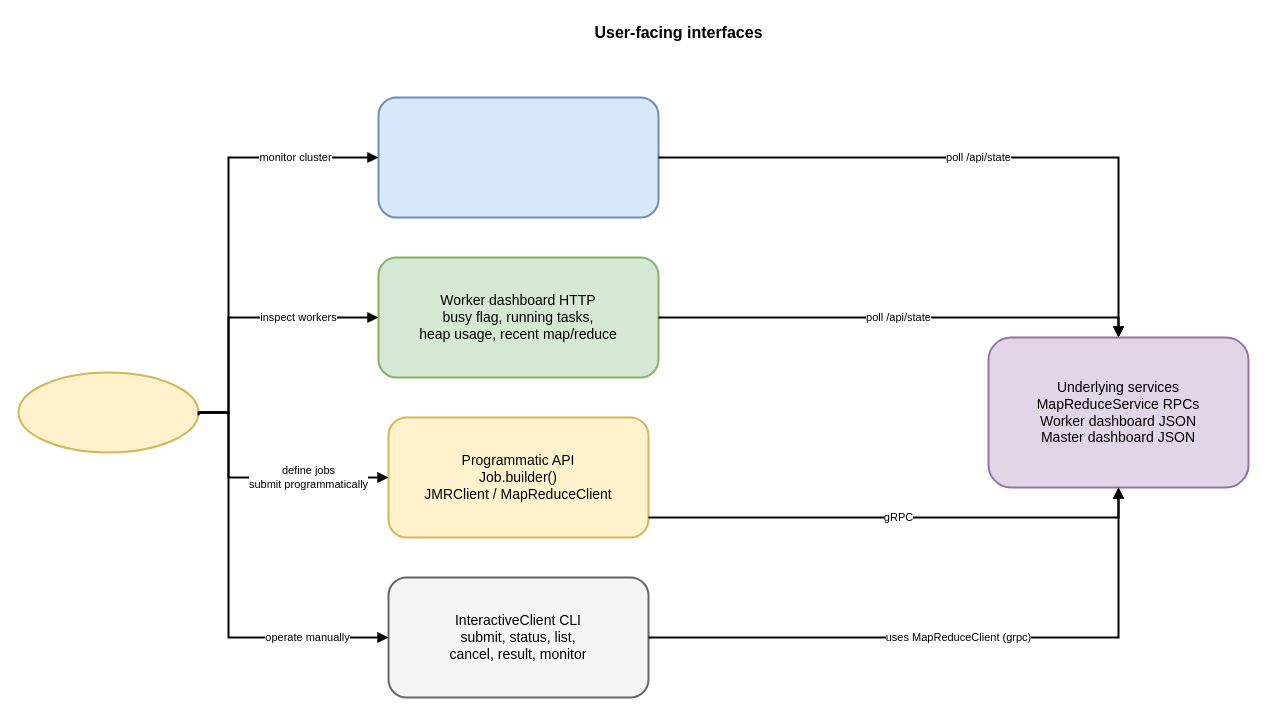
This 1266x715 diagram has some shape labels left out. The shapes that lost their labels are listed below. From the top down, each one's box as (x1, y1, x2, y2) in pixels, then its label:
(377, 96, 659, 218): Master dashboard HTTP phase, queue, active job, workers, events, logs
(17, 371, 199, 453): Developer / operator
